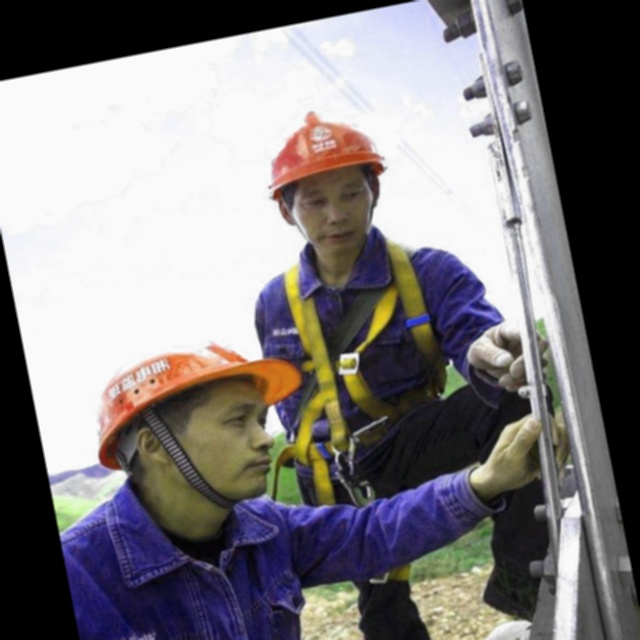Con_Casco: (65, 335, 299, 520), (259, 107, 400, 260)
